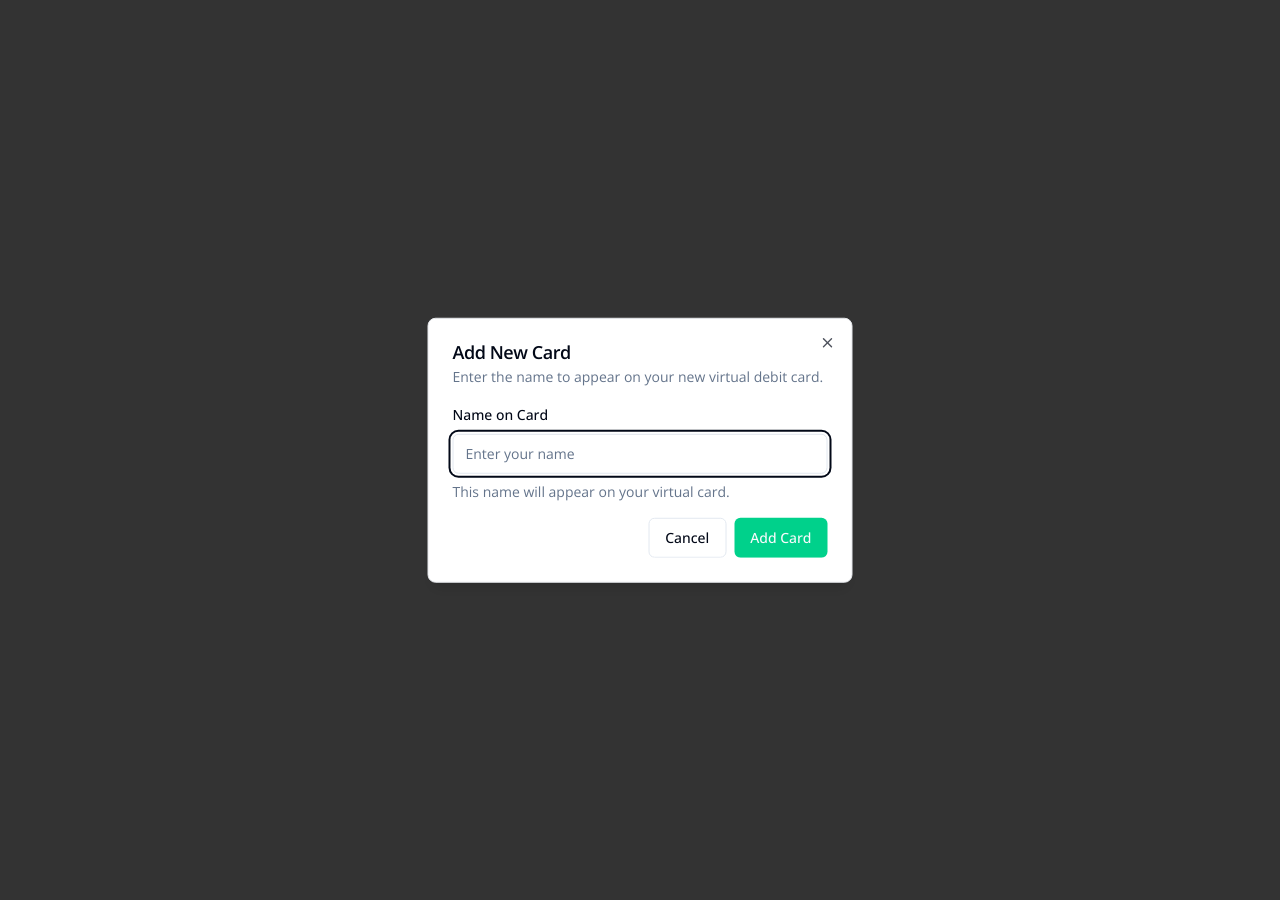
Scenario: AddCardModal › validates form input - rejects empty name
Click the button "Add Card": coordinates (781, 537) top-left (734, 517), bottom-right (828, 557)
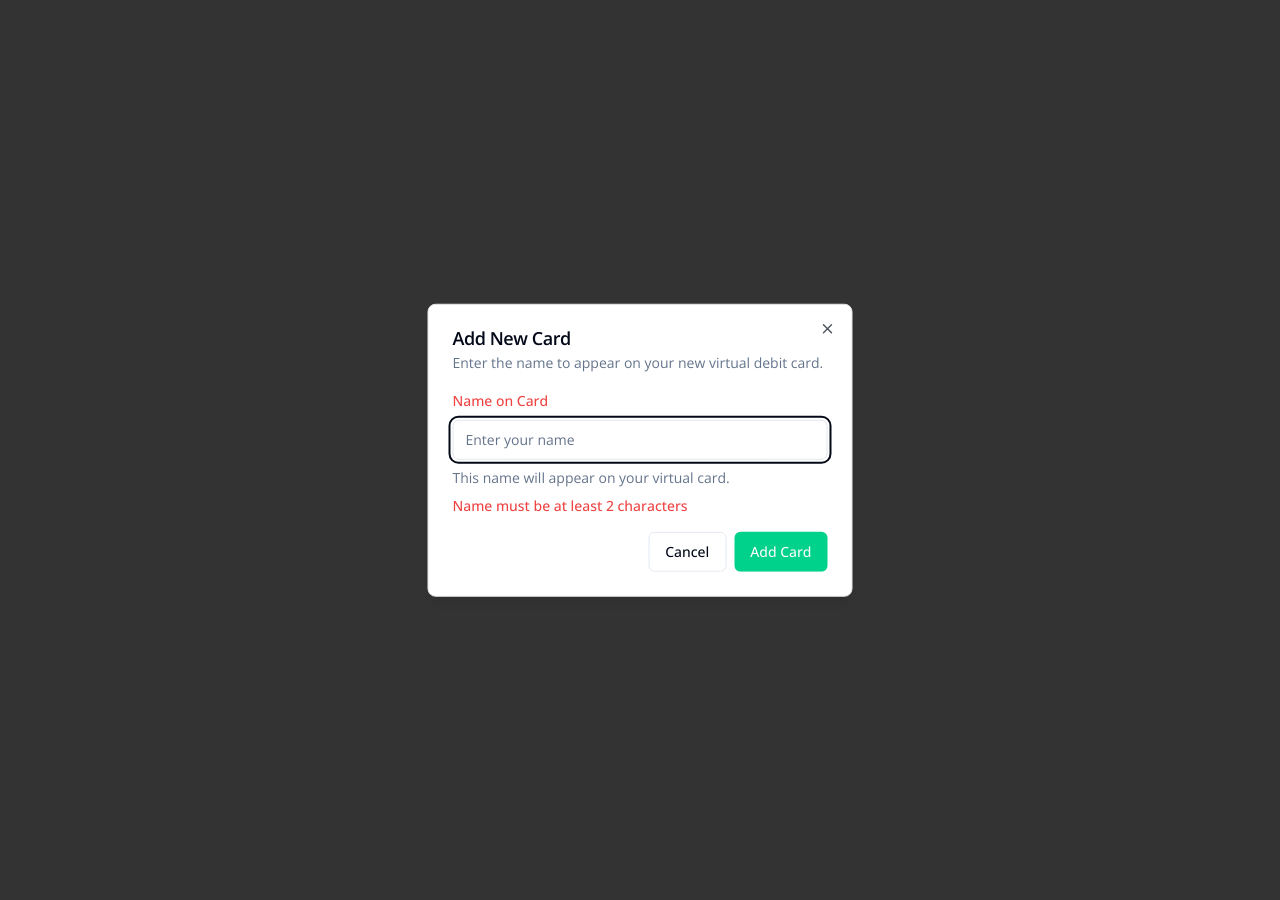
Now the text "Name must be at least 2 characters" is shown, box top-left (452, 495), bottom-right (688, 514)
